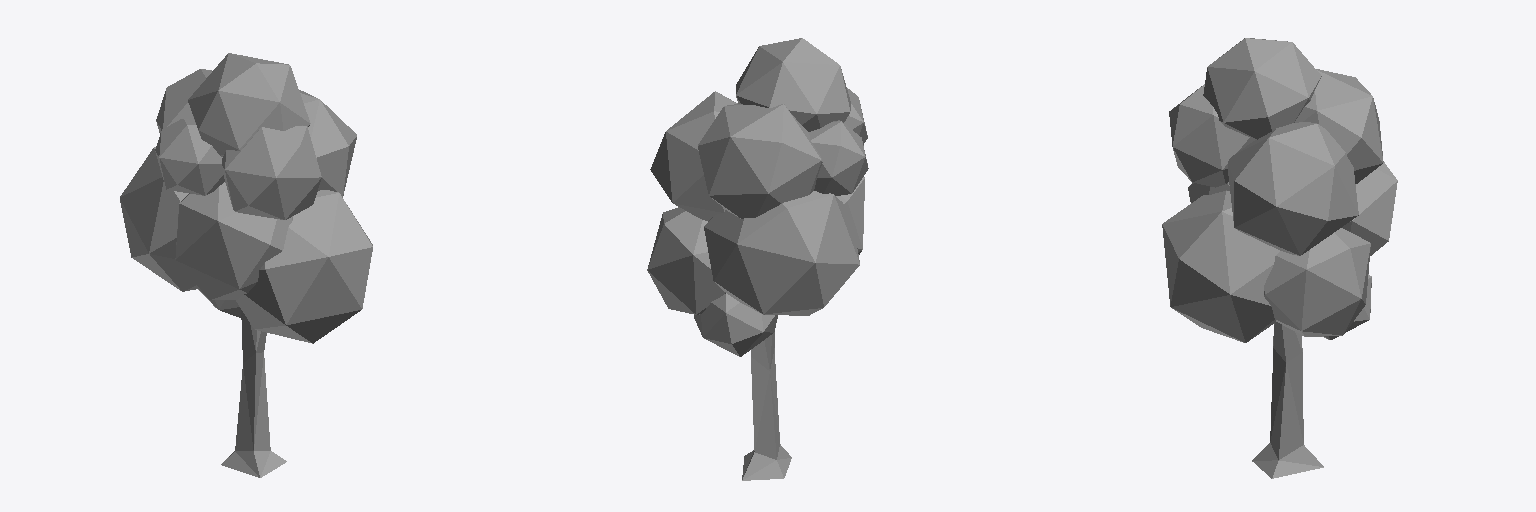
Rendered from Tree1.obj.
3 views of the same model, side by side, from view 1: azimuth 30°, elevation 25°; view 2: azimuth 150°, elevation 25°; view 3: azimuth 270°, elevation 25° (orthographic).
Visible parts, largest first — view 1: Nullo_Alberi_Albero_1_Nullo1_Sfera_1, Nullo_Alberi_Albero_1_Nullo1_Sfera_2, Nullo_Alberi_Albero_1_Nullo1_Sfera_9, Nullo_Alberi_Albero_1_Nullo1_Sfera_7, Nullo_Alberi_Albero_1_Nullo1_Sfera, Nullo_Alberi_Albero_1_Cubo4, Nullo_Alberi_Albero_1_Nullo1_Sfera_6, Nullo_Alberi_Albero_1_Nullo1_Sfera_5, Nullo_Alberi_Albero_1_Nullo1_Sfera_8; view 2: Nullo_Alberi_Albero_1_Nullo1_Sfera, Nullo_Alberi_Albero_1_Nullo1_Sfera_8, Nullo_Alberi_Albero_1_Nullo1_Sfera_9, Nullo_Alberi_Albero_1_Nullo1_Sfera_31, Nullo_Alberi_Albero_1_Nullo1_Sfera_5, Nullo_Alberi_Albero_1_Cubo4, Nullo_Alberi_Albero_1_Nullo1_Sfera_6, Nullo_Alberi_Albero_1_Nullo1_Sfera_42, Nullo_Alberi_Albero_1_Nullo1_Sfera_2, Nullo_Alberi_Albero_1_Nullo1_Sfera_7; view 3: Nullo_Alberi_Albero_1_Nullo1_Sfera_5, Nullo_Alberi_Albero_1_Nullo1_Sfera_1, Nullo_Alberi_Albero_1_Nullo1_Sfera_31, Nullo_Alberi_Albero_1_Nullo1_Sfera_9, Nullo_Alberi_Albero_1_Cubo4, Nullo_Alberi_Albero_1_Nullo1_Sfera_8, Nullo_Alberi_Albero_1_Nullo1_Sfera_7, Nullo_Alberi_Albero_1_Nullo1_Sfera.
Boxes of the visible parts, x1=… form: Nullo_Alberi_Albero_1_Nullo1_Sfera_1: x1=236, y1=190, x2=372, y2=343; Nullo_Alberi_Albero_1_Nullo1_Sfera_2: x1=175, y1=182, x2=292, y2=299; Nullo_Alberi_Albero_1_Nullo1_Sfera_9: x1=188, y1=53, x2=310, y2=156; Nullo_Alberi_Albero_1_Nullo1_Sfera_7: x1=221, y1=125, x2=321, y2=219; Nullo_Alberi_Albero_1_Nullo1_Sfera: x1=120, y1=147, x2=199, y2=291; Nullo_Alberi_Albero_1_Cubo4: x1=221, y1=310, x2=286, y2=477; Nullo_Alberi_Albero_1_Nullo1_Sfera_6: x1=155, y1=119, x2=224, y2=195; Nullo_Alberi_Albero_1_Nullo1_Sfera_5: x1=299, y1=90, x2=356, y2=196; Nullo_Alberi_Albero_1_Nullo1_Sfera_8: x1=156, y1=69, x2=211, y2=132; Nullo_Alberi_Albero_1_Nullo1_Sfera: x1=704, y1=191, x2=859, y2=315; Nullo_Alberi_Albero_1_Nullo1_Sfera_8: x1=698, y1=104, x2=822, y2=218; Nullo_Alberi_Albero_1_Nullo1_Sfera_9: x1=736, y1=38, x2=850, y2=131; Nullo_Alberi_Albero_1_Nullo1_Sfera_31: x1=647, y1=207, x2=725, y2=314; Nullo_Alberi_Albero_1_Nullo1_Sfera_5: x1=650, y1=91, x2=737, y2=220; Nullo_Alberi_Albero_1_Cubo4: x1=742, y1=332, x2=791, y2=480; Nullo_Alberi_Albero_1_Nullo1_Sfera_6: x1=809, y1=120, x2=868, y2=195; Nullo_Alberi_Albero_1_Nullo1_Sfera_42: x1=694, y1=293, x2=777, y2=356; Nullo_Alberi_Albero_1_Nullo1_Sfera_2: x1=836, y1=177, x2=864, y2=254; Nullo_Alberi_Albero_1_Nullo1_Sfera_7: x1=844, y1=88, x2=867, y2=144; Nullo_Alberi_Albero_1_Nullo1_Sfera_5: x1=1228, y1=122, x2=1358, y2=255; Nullo_Alberi_Albero_1_Nullo1_Sfera_1: x1=1162, y1=190, x2=1279, y2=342; Nullo_Alberi_Albero_1_Nullo1_Sfera_31: x1=1264, y1=228, x2=1370, y2=336; Nullo_Alberi_Albero_1_Nullo1_Sfera_9: x1=1203, y1=38, x2=1321, y2=140; Nullo_Alberi_Albero_1_Cubo4: x1=1252, y1=322, x2=1323, y2=478; Nullo_Alberi_Albero_1_Nullo1_Sfera_8: x1=1295, y1=69, x2=1383, y2=183; Nullo_Alberi_Albero_1_Nullo1_Sfera_7: x1=1169, y1=84, x2=1252, y2=187; Nullo_Alberi_Albero_1_Nullo1_Sfera: x1=1342, y1=162, x2=1397, y2=255.
Bounding box in the file's own units: 356 × 715 × 364.